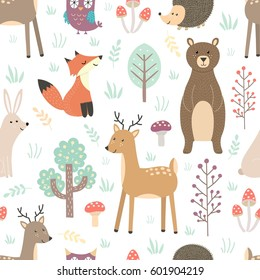animal: (107, 117, 180, 233), (176, 34, 224, 150), (46, 48, 97, 119), (5, 206, 53, 256), (1, 91, 30, 169), (161, 1, 212, 27)
bird: (61, 1, 105, 33)
